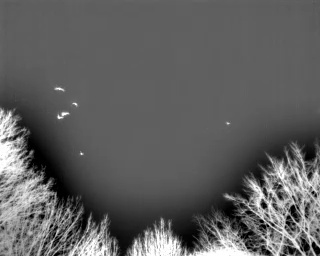BIRD: (71, 100, 80, 109)
